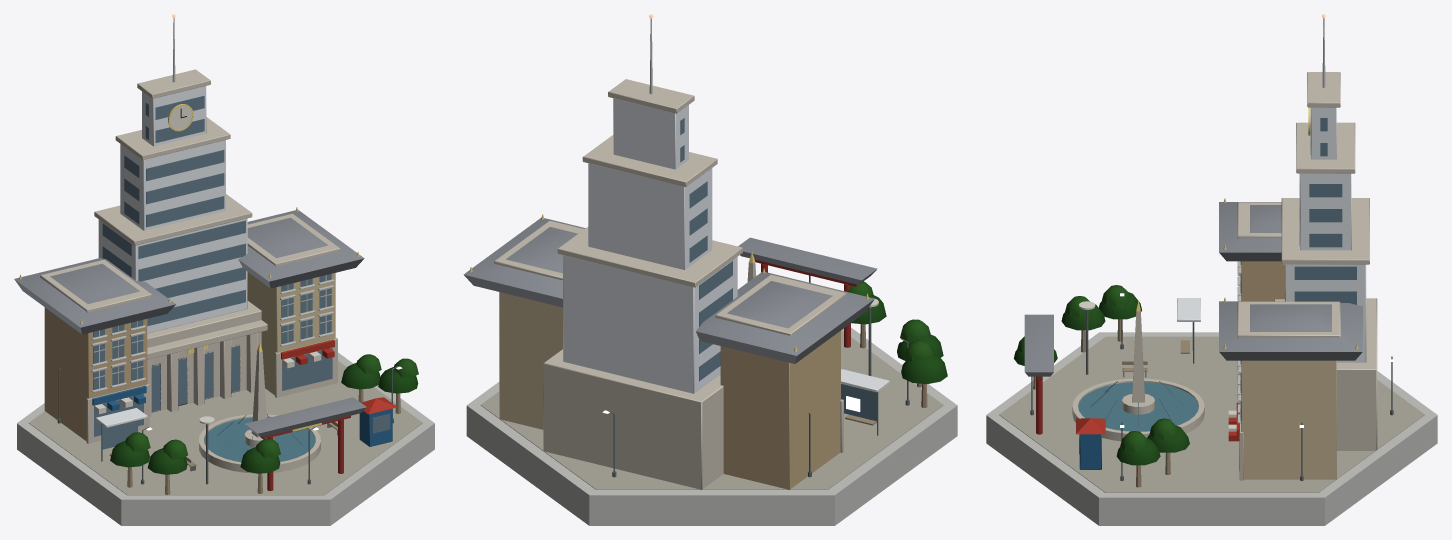
Rendered from cityCenter_asia.glb.
The picture shows the model from 3 angles, left to right: view 1: azimuth 30°, elevation 25°; view 2: azimuth 150°, elevation 25°; view 3: azimuth 270°, elevation 25°; orthographic projection. The views are drawn at different scales.
Visible parts, largest first — view 1: glass, stone, wall_concrete, pavers, roof_slate, cladding, plaster, leaf, paint, steel_dark, wood; view 2: cladding, stone, plaster, wall_concrete, roof_slate, pavers, glass, leaf, steel_dark, paint; view 3: pavers, wall_concrete, stone, plaster, roof_slate, glass, cladding, leaf, paint, steel_dark, wood.
Part boxes in pixels (x1=…): glass: x1=93, y1=96, x2=390, y2=462; stone: x1=40, y1=69, x2=340, y2=473; wall_concrete: x1=17, y1=275, x2=434, y2=525; pavers: x1=29, y1=361, x2=422, y2=495; roof_slate: x1=14, y1=210, x2=366, y2=437; cladding: x1=95, y1=86, x2=247, y2=427; plaster: x1=44, y1=272, x2=335, y2=441; leaf: x1=110, y1=354, x2=418, y2=474; paint: x1=92, y1=106, x2=397, y2=491; steel_dark: x1=57, y1=366, x2=398, y2=484; wood: x1=109, y1=389, x2=400, y2=494; cladding: x1=563, y1=98, x2=889, y2=393; stone: x1=494, y1=79, x2=846, y2=489; plaster: x1=499, y1=292, x2=840, y2=489; wall_concrete: x1=466, y1=327, x2=957, y2=525; roof_slate: x1=463, y1=217, x2=877, y2=363; pavers: x1=480, y1=330, x2=943, y2=489; glass: x1=680, y1=118, x2=876, y2=421; leaf: x1=847, y1=281, x2=947, y2=384; steel_dark: x1=607, y1=275, x2=909, y2=477; paint: x1=755, y1=259, x2=878, y2=347; pavers: x1=999, y1=336, x2=1424, y2=492; wall_concrete: x1=986, y1=261, x2=1437, y2=525; stone: x1=1072, y1=72, x2=1377, y2=480; plaster: x1=1241, y1=261, x2=1336, y2=479; roof_slate: x1=1024, y1=202, x2=1362, y2=376; glass: x1=1078, y1=108, x2=1356, y2=470; cladding: x1=1177, y1=107, x2=1366, y2=362; leaf: x1=1014, y1=285, x2=1189, y2=465; paint: x1=1036, y1=301, x2=1239, y2=469; steel_dark: x1=1030, y1=290, x2=1393, y2=480; wood: x1=1033, y1=319, x2=1189, y2=487.
Bounding box in the file's own units: 21.3 × 25.76 × 24.6.
